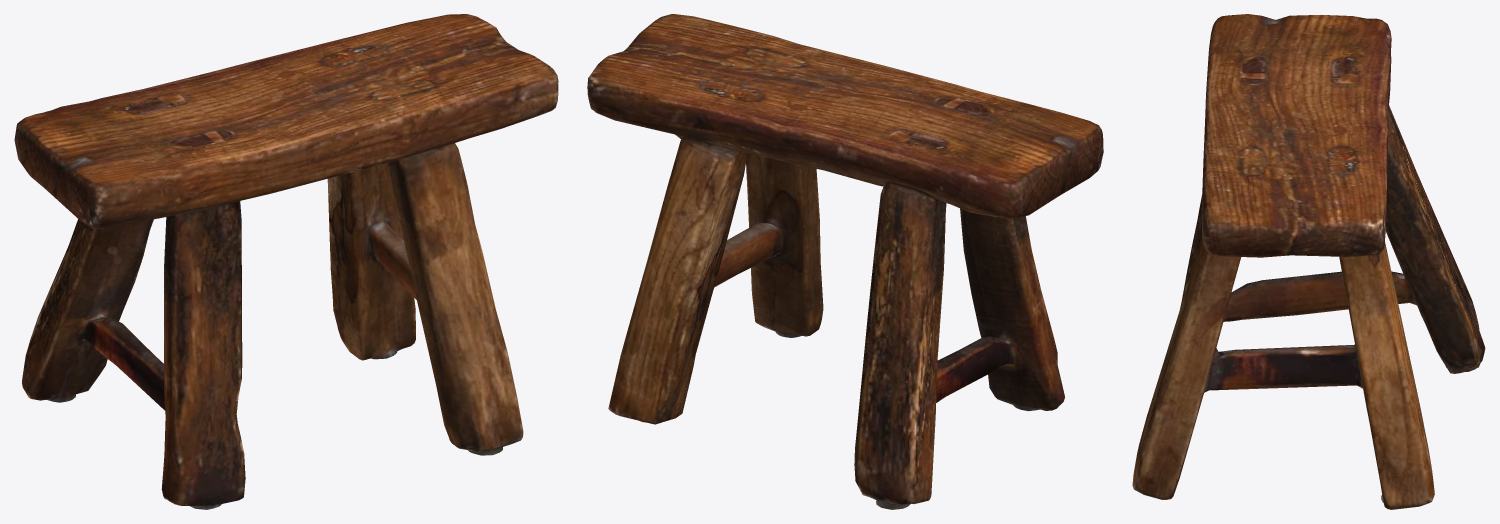
The model's file is wooden_stool_02.glb.
The picture shows the model from 3 angles, left to right: view 1: azimuth 30°, elevation 25°; view 2: azimuth 150°, elevation 25°; view 3: azimuth 270°, elevation 25°; orthographic projection. The views are drawn at different scales.
Parts seen in each view (by area): view 1: wooden_stool_02; view 2: wooden_stool_02; view 3: wooden_stool_02.
Part boxes in pixels (<box>): wooden_stool_02: <box>14,14,558,509</box>; wooden_stool_02: <box>587,14,1103,509</box>; wooden_stool_02: <box>1132,14,1485,509</box>.
Bounding box in the file's own units: 0.2648 × 0.1819 × 0.1831.
1 material, 1 textured.
